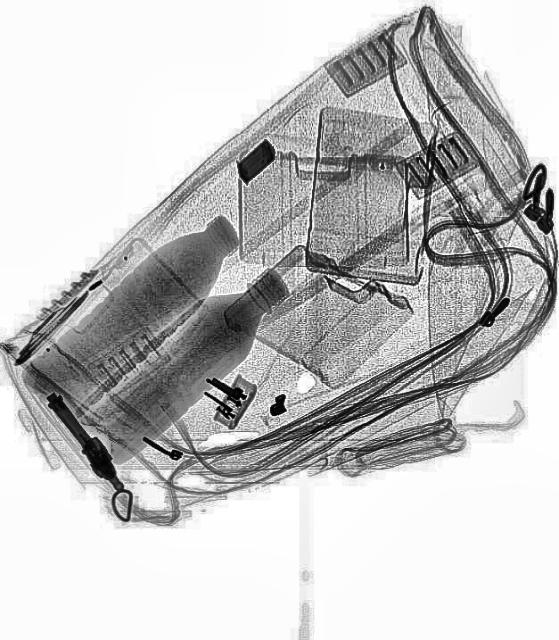Gun: (36, 384, 140, 502)
